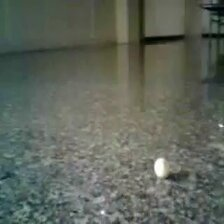w: (153, 158, 170, 177)
